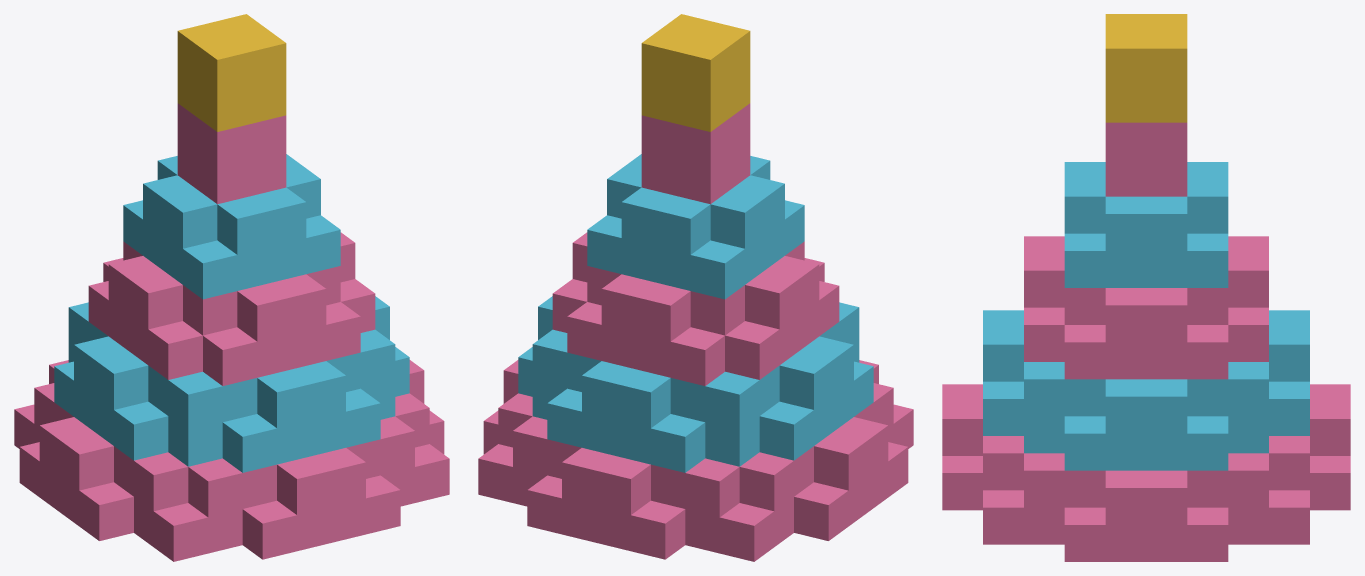
The model's file is party.glb.
3 renders of one model, left to right at view 1: azimuth 30°, elevation 25°; view 2: azimuth 150°, elevation 25°; view 3: azimuth 270°, elevation 25°, orthographic. The views are drawn at different scales.
Parts seen in each view (by area): view 1: party; view 2: party; view 3: party.
Part boxes in pixels (box(x1,y1,x2,y2)): party: box(14, 14, 449, 561); party: box(478, 14, 913, 561); party: box(942, 14, 1350, 561).
Size of the model in its own units: 0.5 by 0.6 by 0.5.
1 material, 1 textured.
